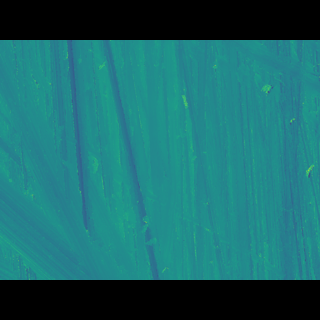Loch: (39, 132, 290, 249), (0, 73, 138, 250), (94, 70, 163, 250)
